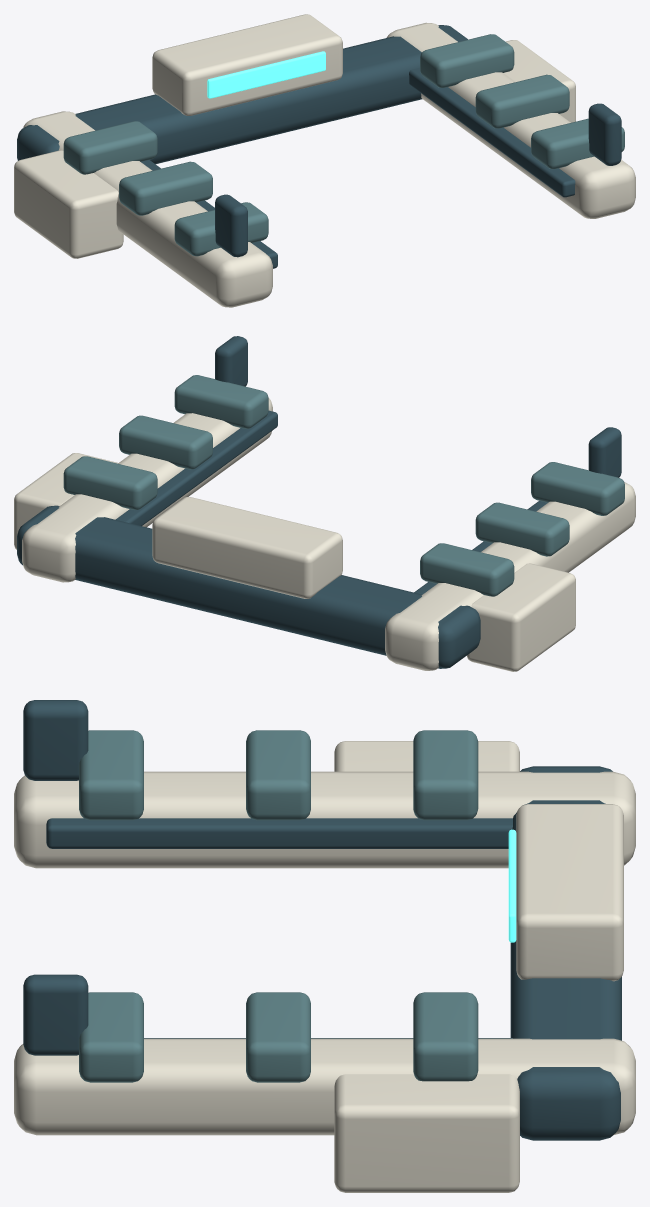
Rendered from shipyard.glb.
3 renders of one model, top to bottom at view 1: azimuth 30°, elevation 25°; view 2: azimuth 150°, elevation 25°; view 3: azimuth 270°, elevation 25°, orthographic. The views are drawn at different scales.
Parts seen in each view (by area): view 1: Architecture, Hardware; view 2: Architecture, Hardware; view 3: Architecture, Hardware.
Boxes of the visible parts, bbox=[...] form: Architecture: bbox=[14, 14, 635, 307]; Hardware: bbox=[215, 103, 621, 257]; Architecture: bbox=[14, 375, 635, 671]; Hardware: bbox=[215, 336, 621, 477]; Architecture: bbox=[14, 730, 635, 1192]; Hardware: bbox=[23, 700, 88, 1055].
Bounding box in the file's own units: 4.74 × 1.01 × 3.35.
